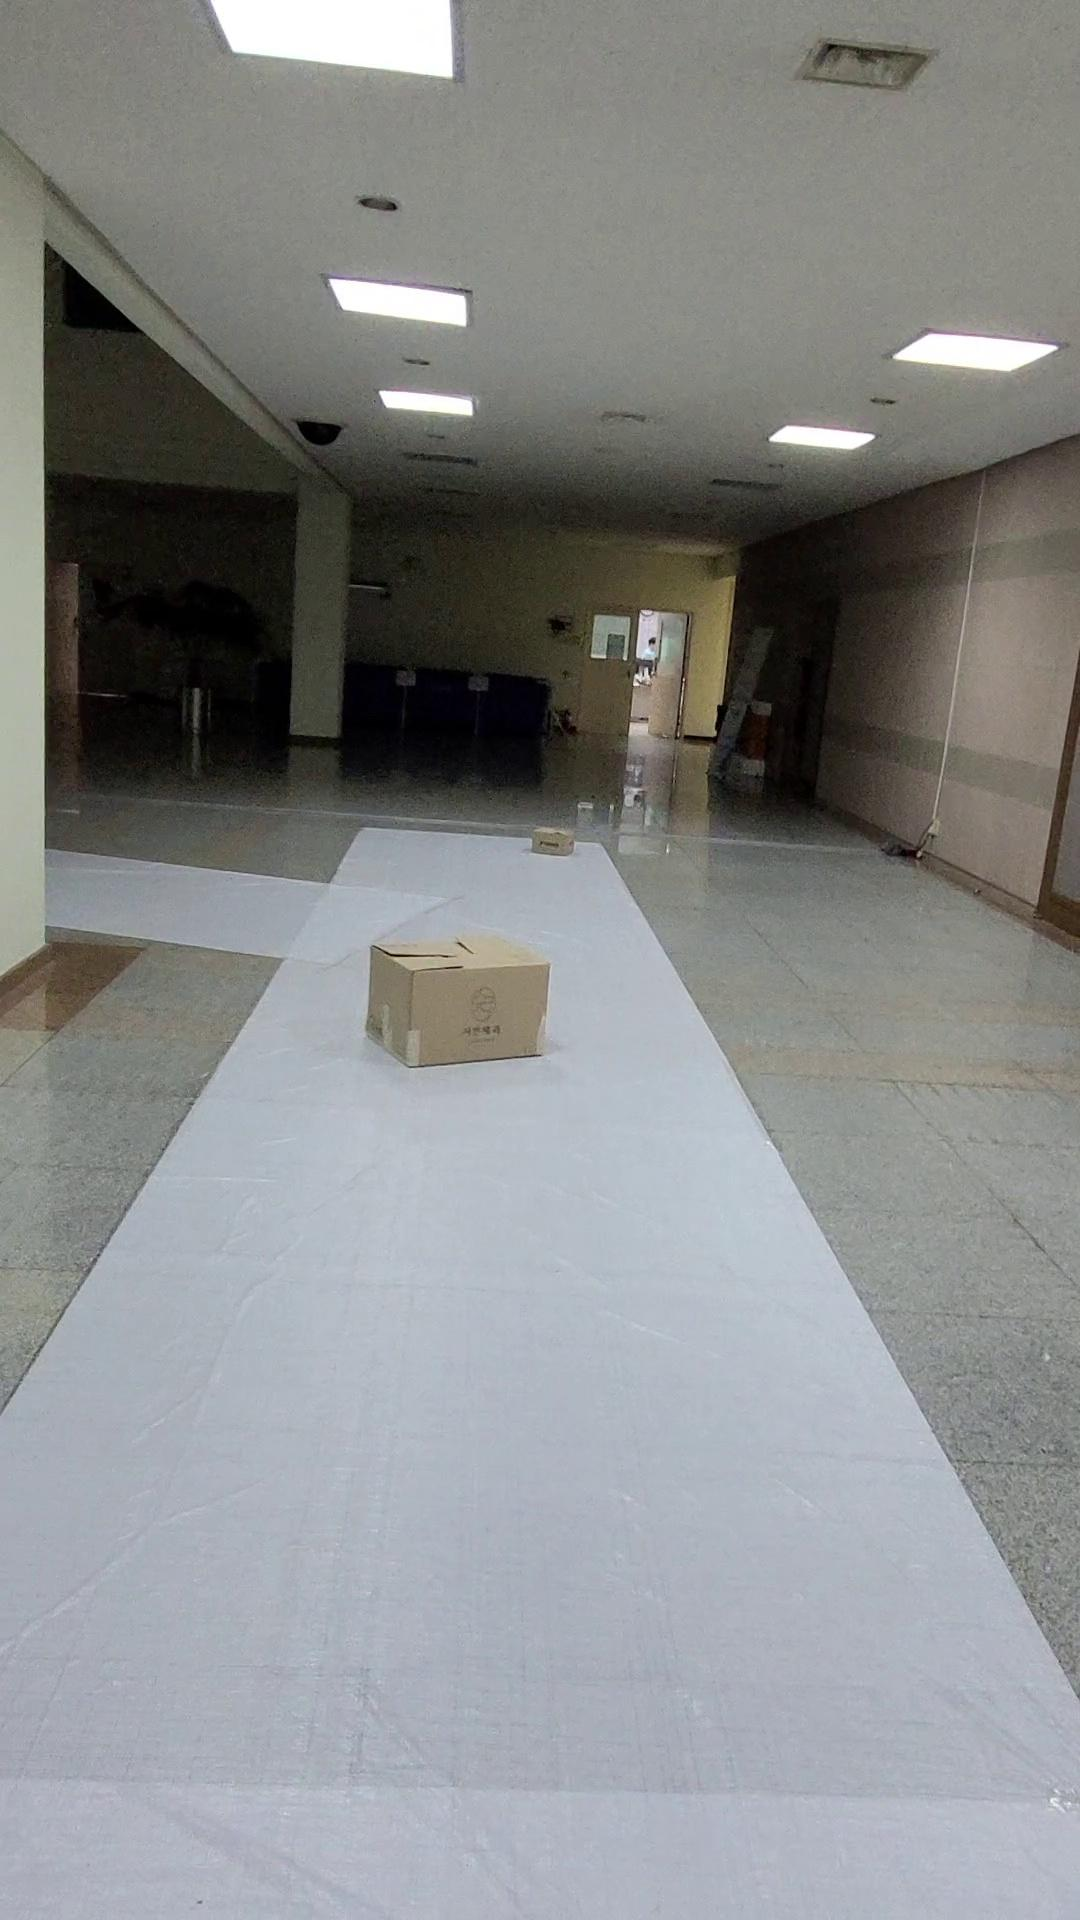Box: (356, 928, 564, 1073), (527, 820, 585, 860)
